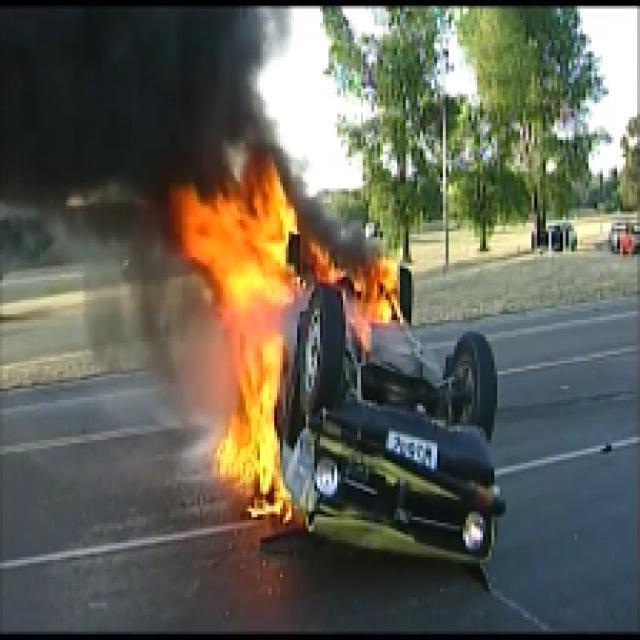Fire: (178, 180, 412, 484)
Smoke: (8, 10, 276, 177)
